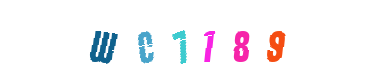1: (151, 0, 231, 80)
7: (150, 0, 230, 80)
8: (190, 0, 270, 80)
9: (236, 0, 316, 80)
C: (115, 0, 195, 80)
W: (63, 0, 143, 80)
